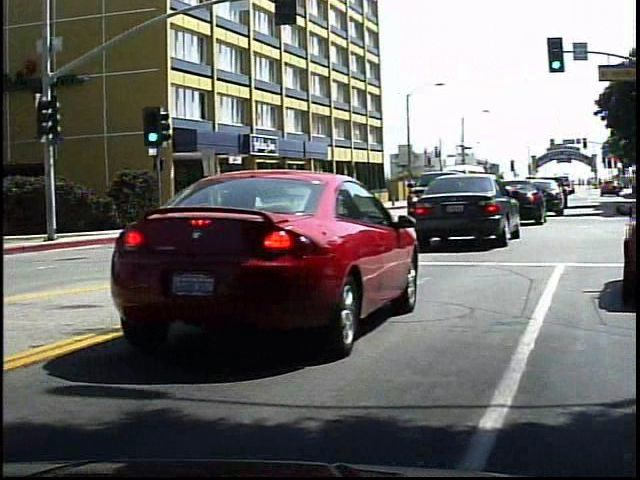person: (281, 185, 299, 223)
